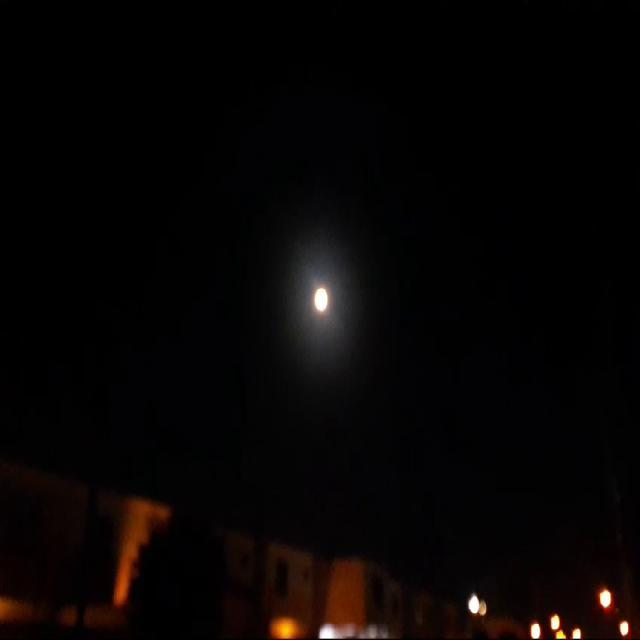moon: (312, 292, 329, 326)
